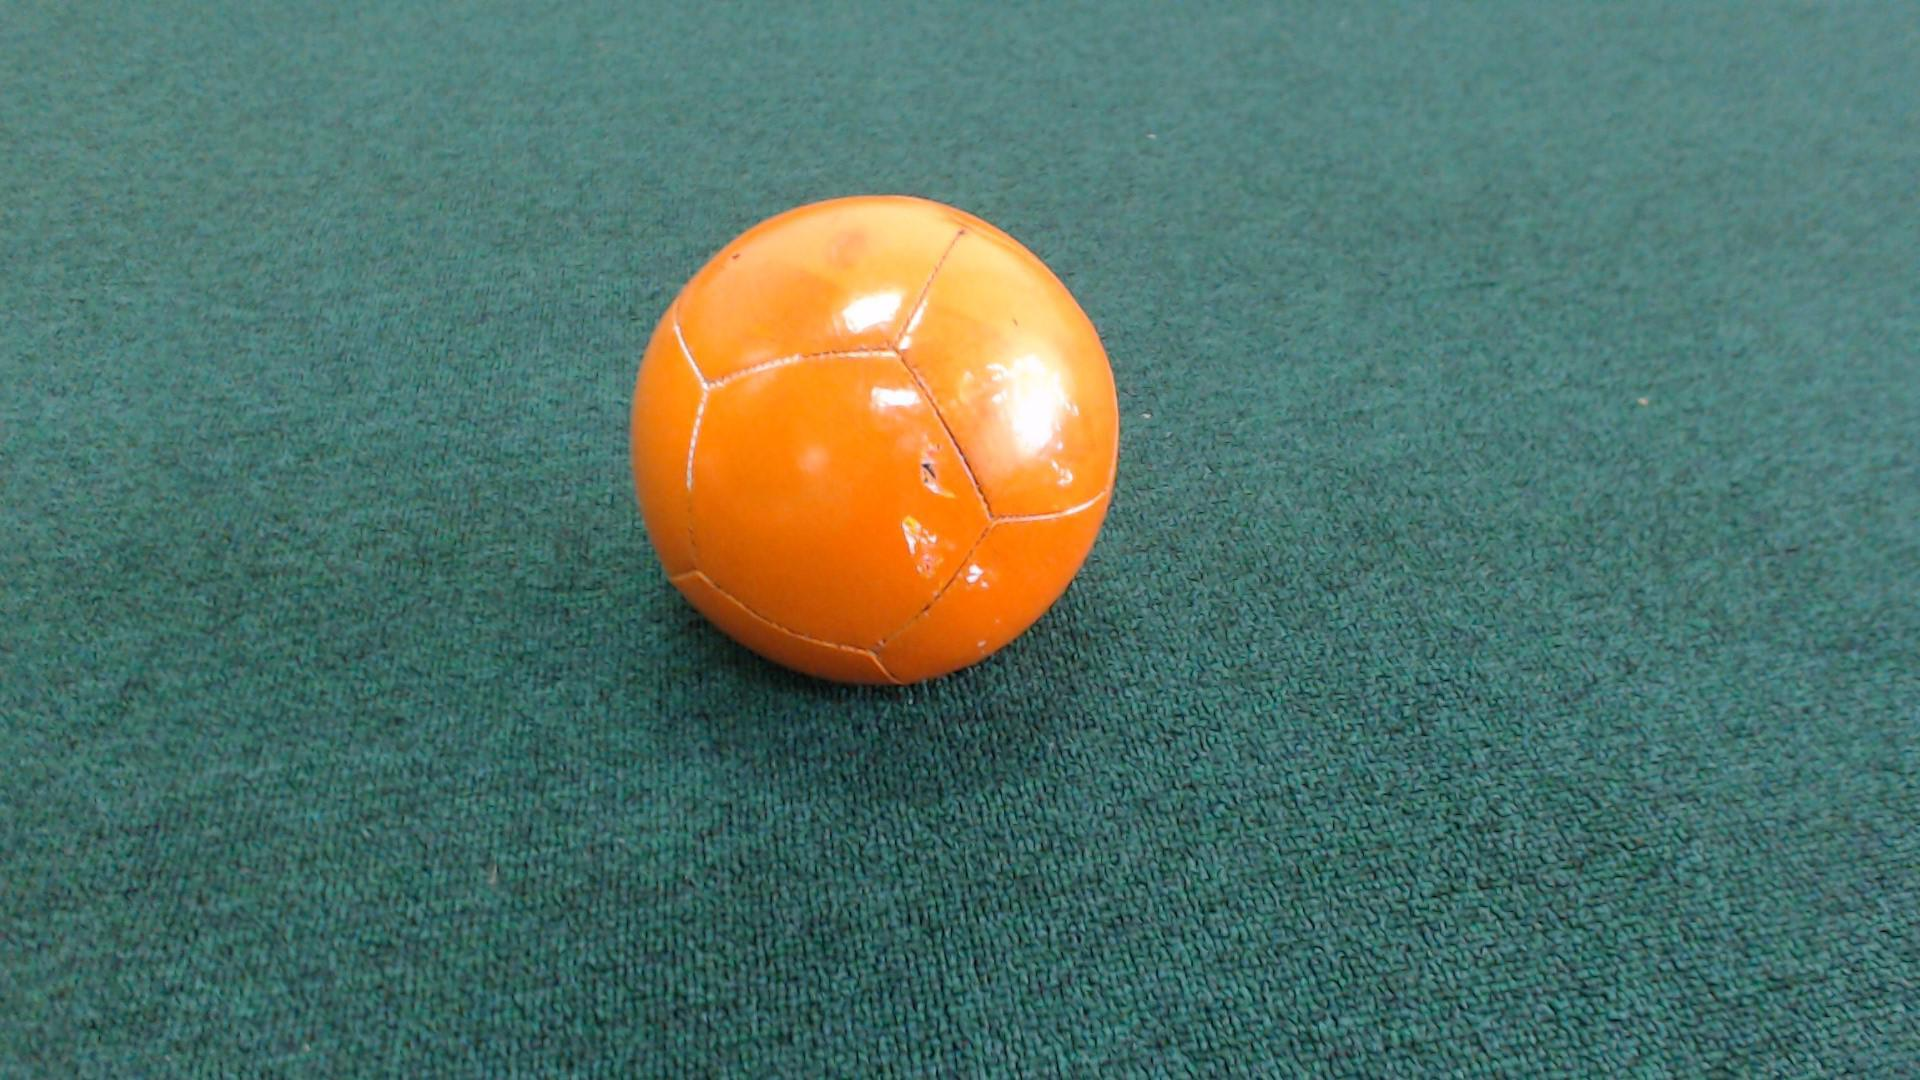bola: (582, 156, 1147, 711)
